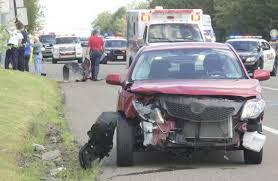Headlight-Damage: (131, 98, 161, 125)
bonnet-dent: (129, 74, 260, 99)
front-bumper-dent: (167, 100, 228, 140)
